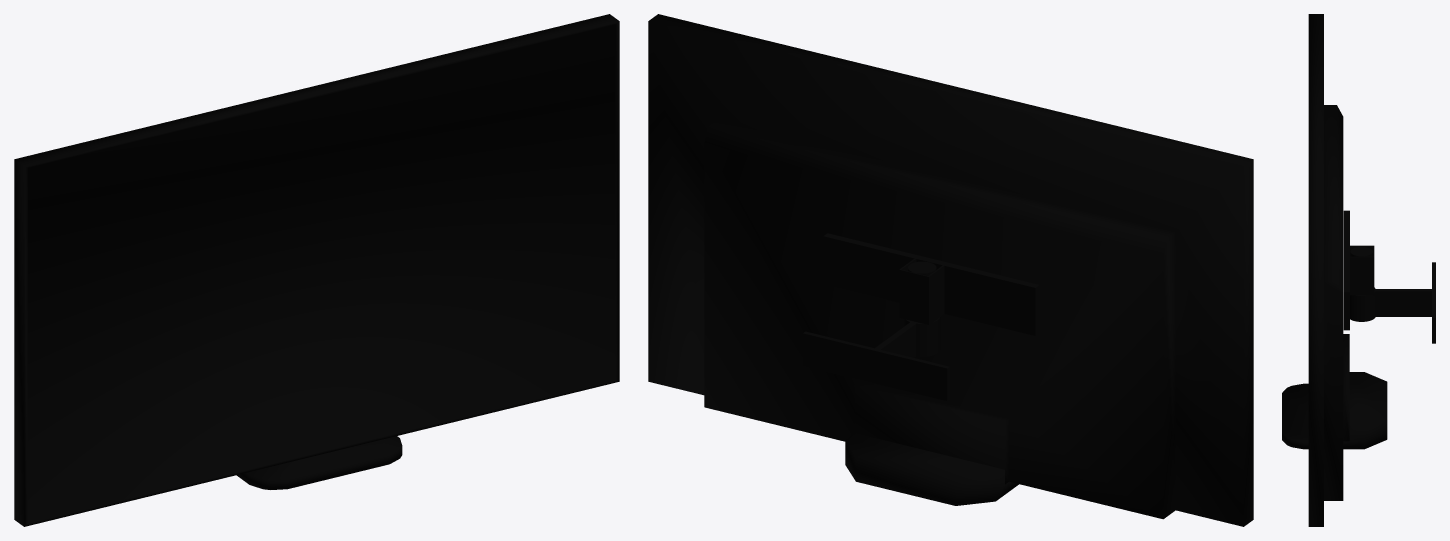
3 views of the same model, side by side, from view 1: azimuth 30°, elevation 25°; view 2: azimuth 150°, elevation 25°; view 3: azimuth 270°, elevation 25° (orthographic). The views are drawn at different scales.
Visible parts, largest first — view 1: TV_Baked, Hold groud TV_Baked; view 2: TV_Baked, TV Holder wall_Baked, Hold groud TV_Baked; view 3: TV_Baked, TV Holder wall_Baked, Hold groud TV_Baked.
Part boxes in pixels (box(x1,y1,x2,y2)): TV_Baked: box(14, 14, 619, 526); Hold groud TV_Baked: box(236, 436, 402, 489); TV_Baked: box(648, 14, 1253, 526); TV Holder wall_Baked: box(803, 233, 1039, 401); Hold groud TV_Baked: box(845, 433, 1018, 505); TV_Baked: box(1308, 14, 1349, 526); TV Holder wall_Baked: box(1343, 210, 1435, 343); Hold groud TV_Baked: box(1282, 372, 1387, 449).
Bounding box in the file's own units: 172 × 102 × 48.87.
Materials: 1 (1 with a texture image).
